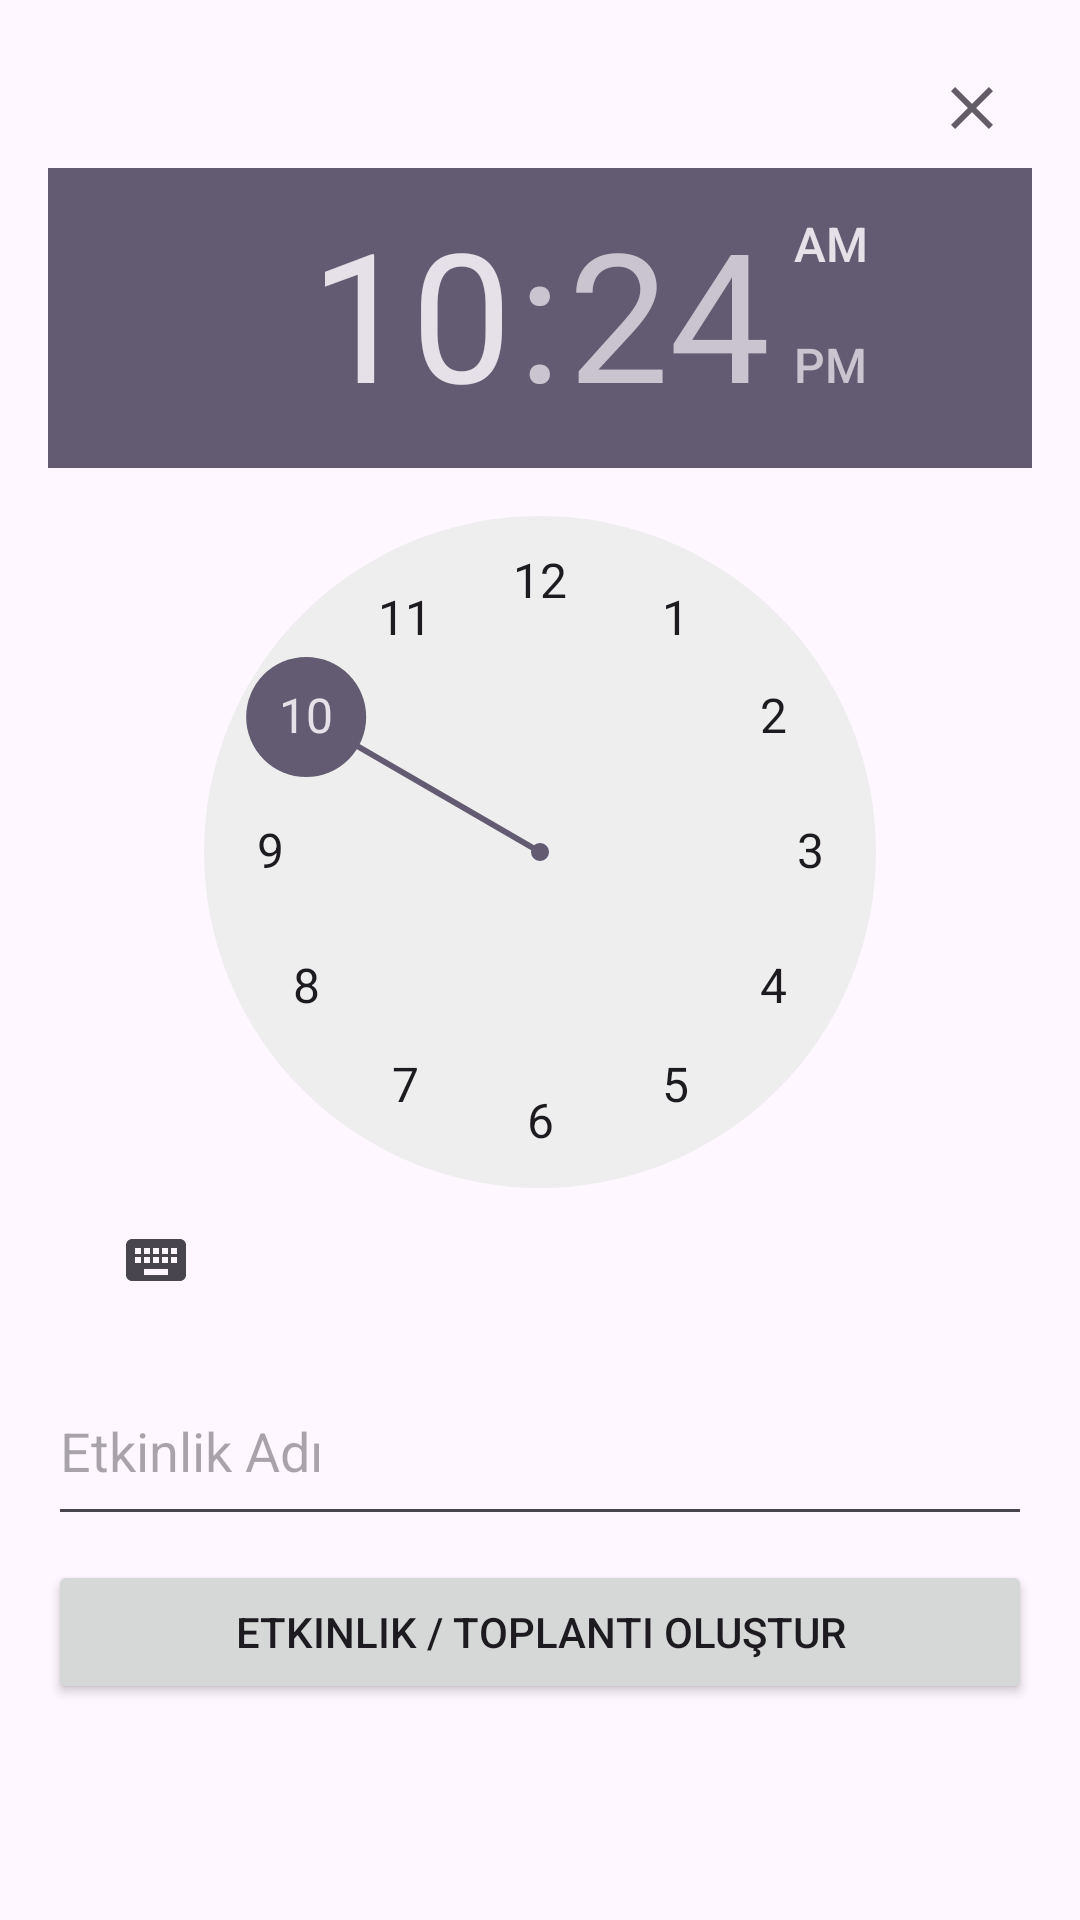

Named icons in this screenshot (1080x1920) and their bounding boxes, (x1, y1, x2, y2):
Kapat: (951, 87, 993, 129)
